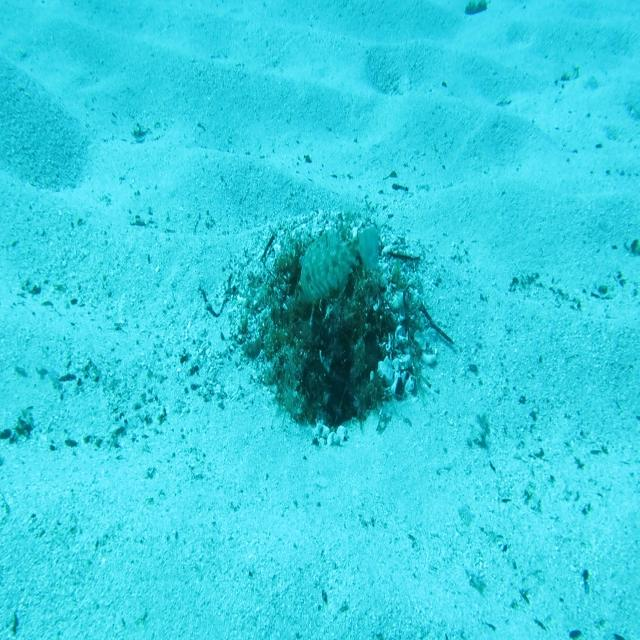NIP_IN: (297, 225, 381, 311)
core_nest: (303, 265, 357, 303)
nest: (221, 201, 446, 454)
vegetation: (464, 1, 488, 16)
